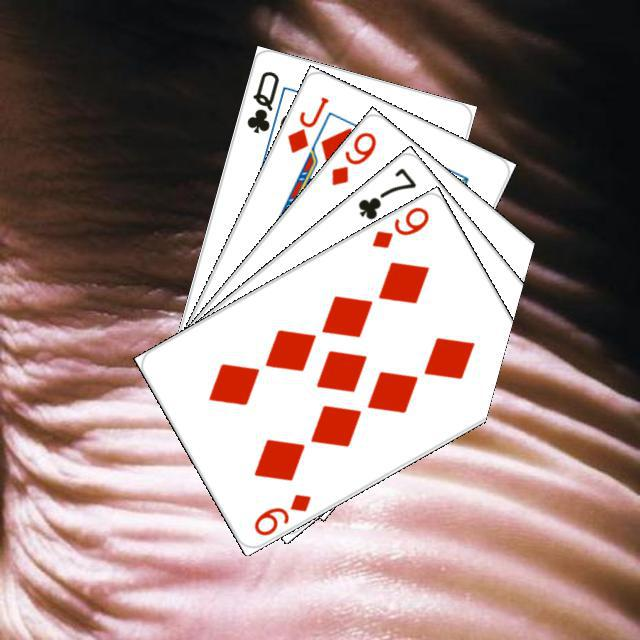7c: (352, 162, 418, 222)
9d: (326, 126, 379, 188), (248, 488, 313, 538), (366, 202, 431, 251)
Jd: (282, 92, 331, 155)
Qc: (241, 66, 290, 145)
